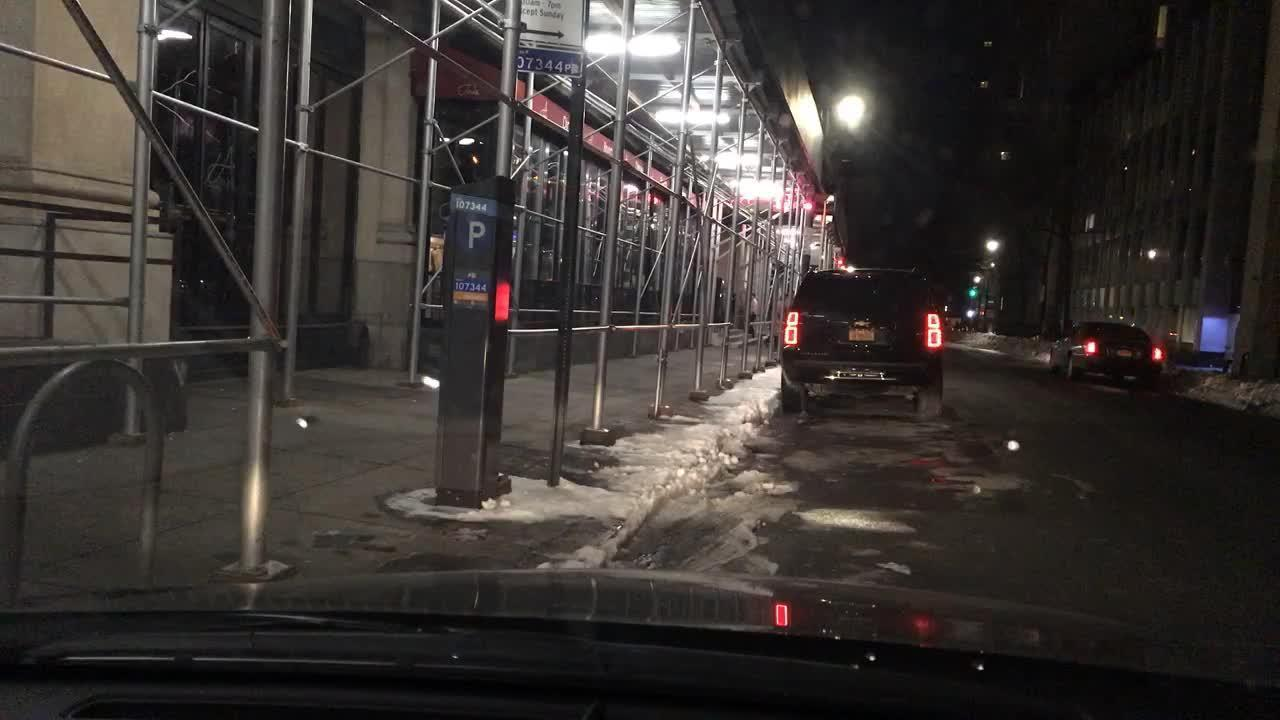chevrolet: (852, 320, 874, 327)
